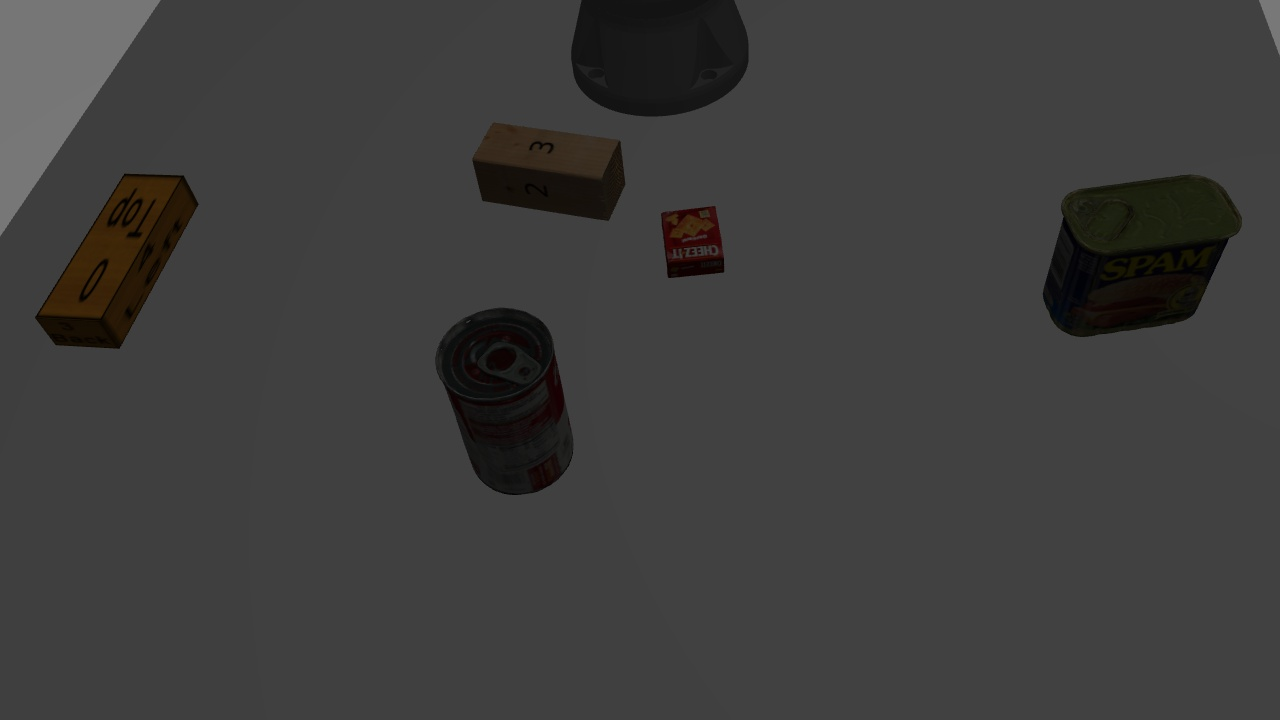cracker_box: (656, 202, 728, 273)
jenga: (28, 169, 201, 352)
potted_meat_can: (1037, 167, 1242, 337)
tomato_soup_can: (434, 298, 583, 493)
wood_block: (468, 121, 635, 225)
